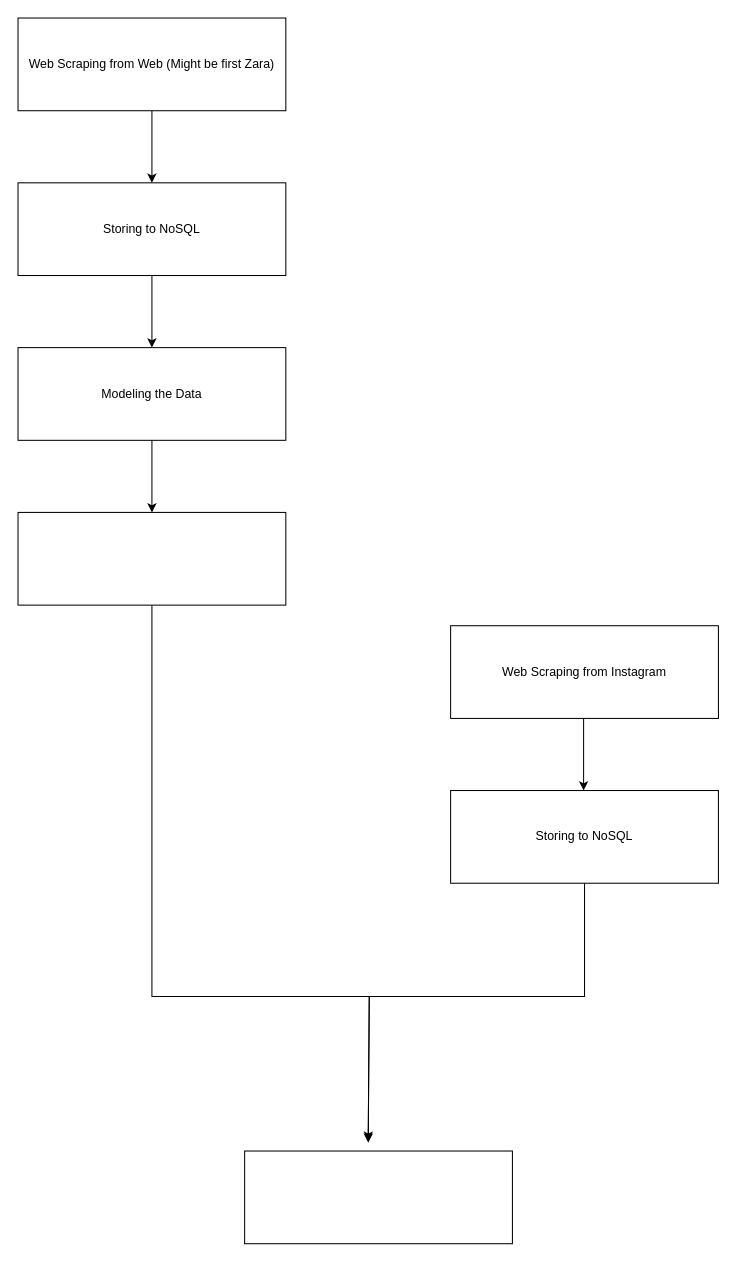
Some shapes in this 736 by 1262 pixel diagram are drawn without their labels. The centre of each missing label's shape, as x and y in pixels:
"Predict Data from Instagram" belongs at pixel 378 1197.
"Testing the Model" belongs at pixel 151 558.
